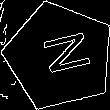N_W: (29, 31, 90, 82)
